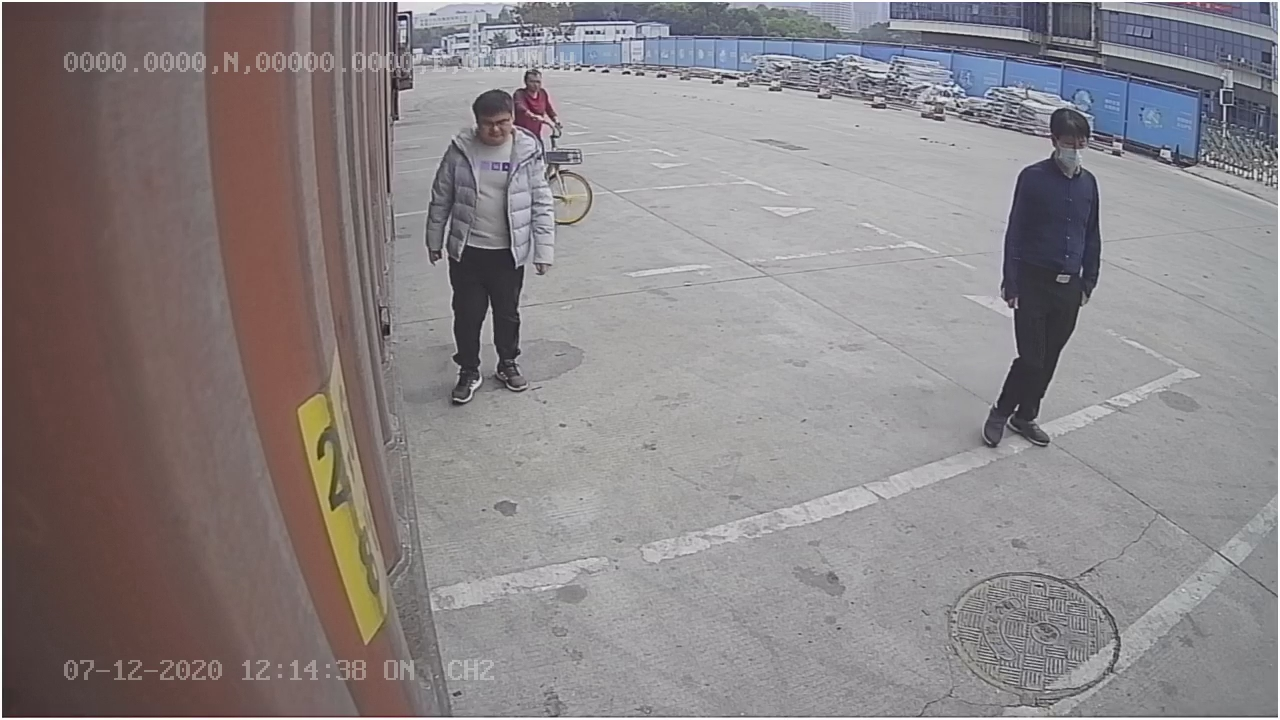person: (980, 103, 1106, 457)
